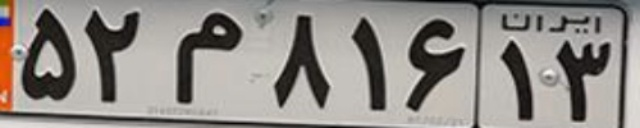1: (350, 18, 388, 111), (500, 38, 534, 120)
2: (83, 7, 133, 103)
3: (555, 39, 611, 121)
5: (21, 6, 76, 99)
6: (406, 16, 467, 111)
8: (273, 13, 330, 109)
mim: (176, 11, 244, 106)
